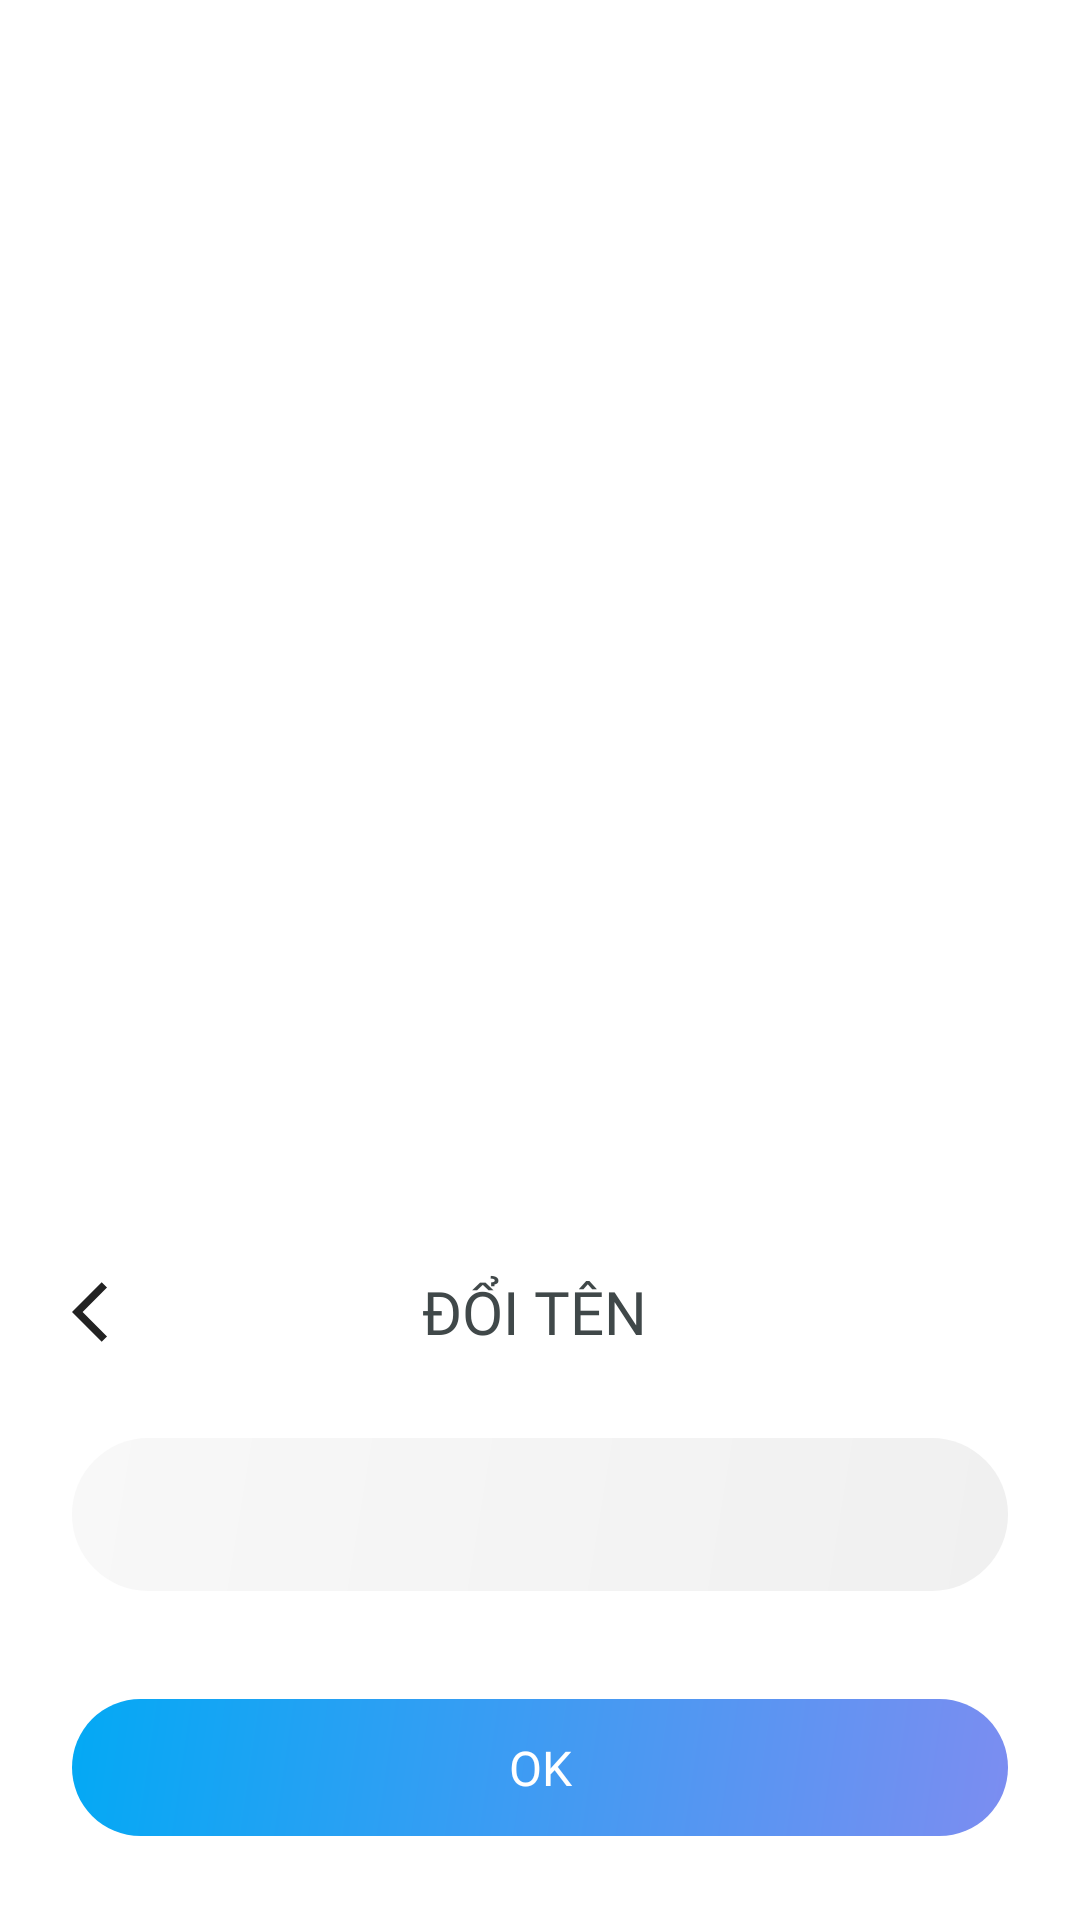

Icon click points for this 1080px×1920px phone screenshot, format point (x, y):
arrow back: point (89, 1312)
